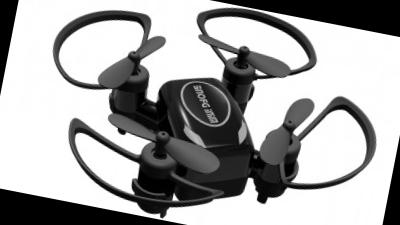drone: (20, 0, 387, 225)
